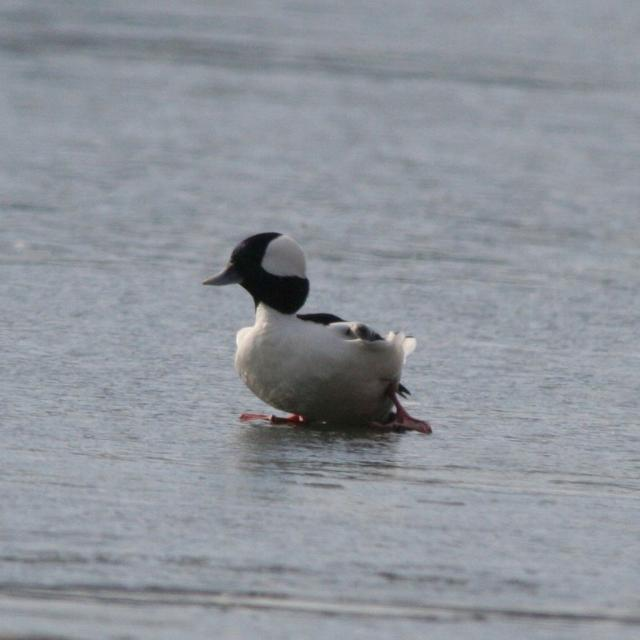bird: (202, 227, 430, 443)
